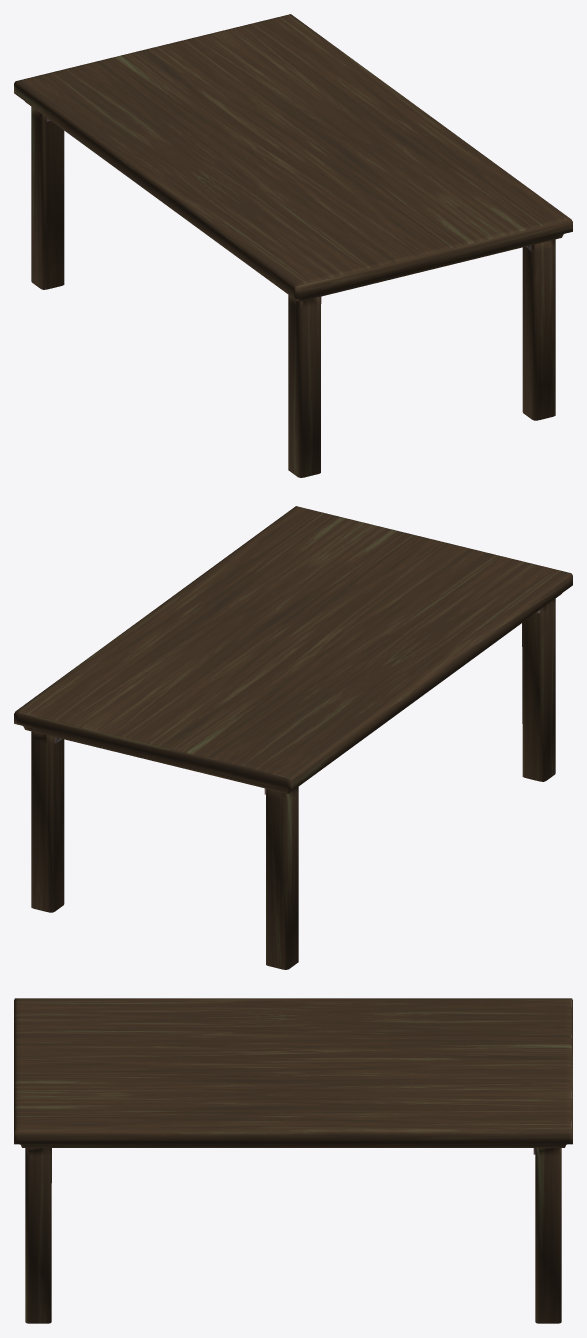
File: Table1.fbx
The picture shows the model from 3 angles, top to bottom: view 1: azimuth 30°, elevation 25°; view 2: azimuth 150°, elevation 25°; view 3: azimuth 270°, elevation 25°; orthographic projection.
Parts seen in each view (by area): view 1: DiningTable; view 2: DiningTable; view 3: DiningTable.
Boxes of the visible parts, x1,y1,x2,y2 form: DiningTable: [14, 14, 572, 477]; DiningTable: [14, 506, 572, 969]; DiningTable: [14, 998, 572, 1323].
Bounding box in the file's own units: 200 × 137 × 352.
